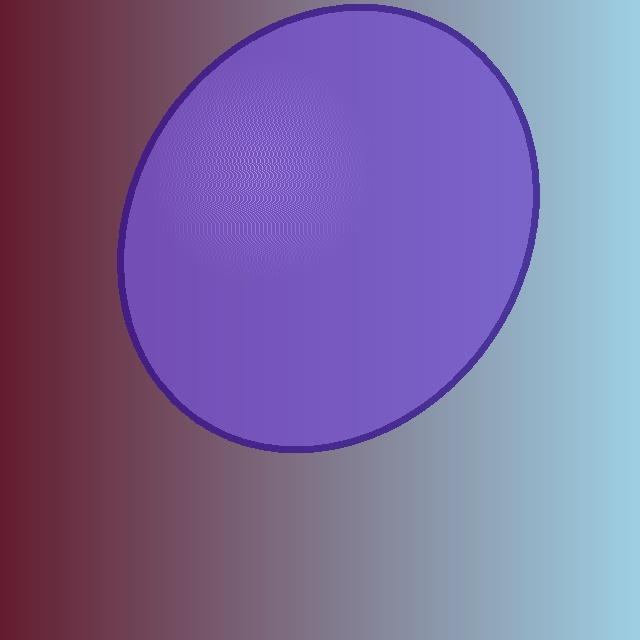lens: (121, 7, 535, 449)
